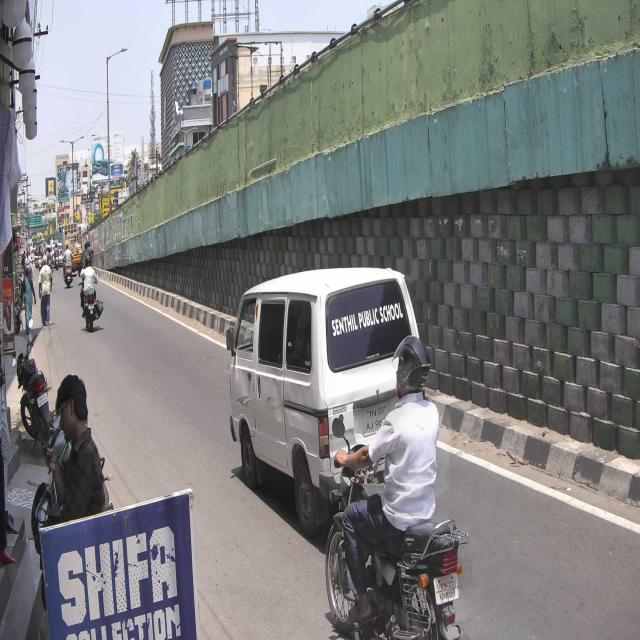single_rider: (324, 333, 468, 640)
